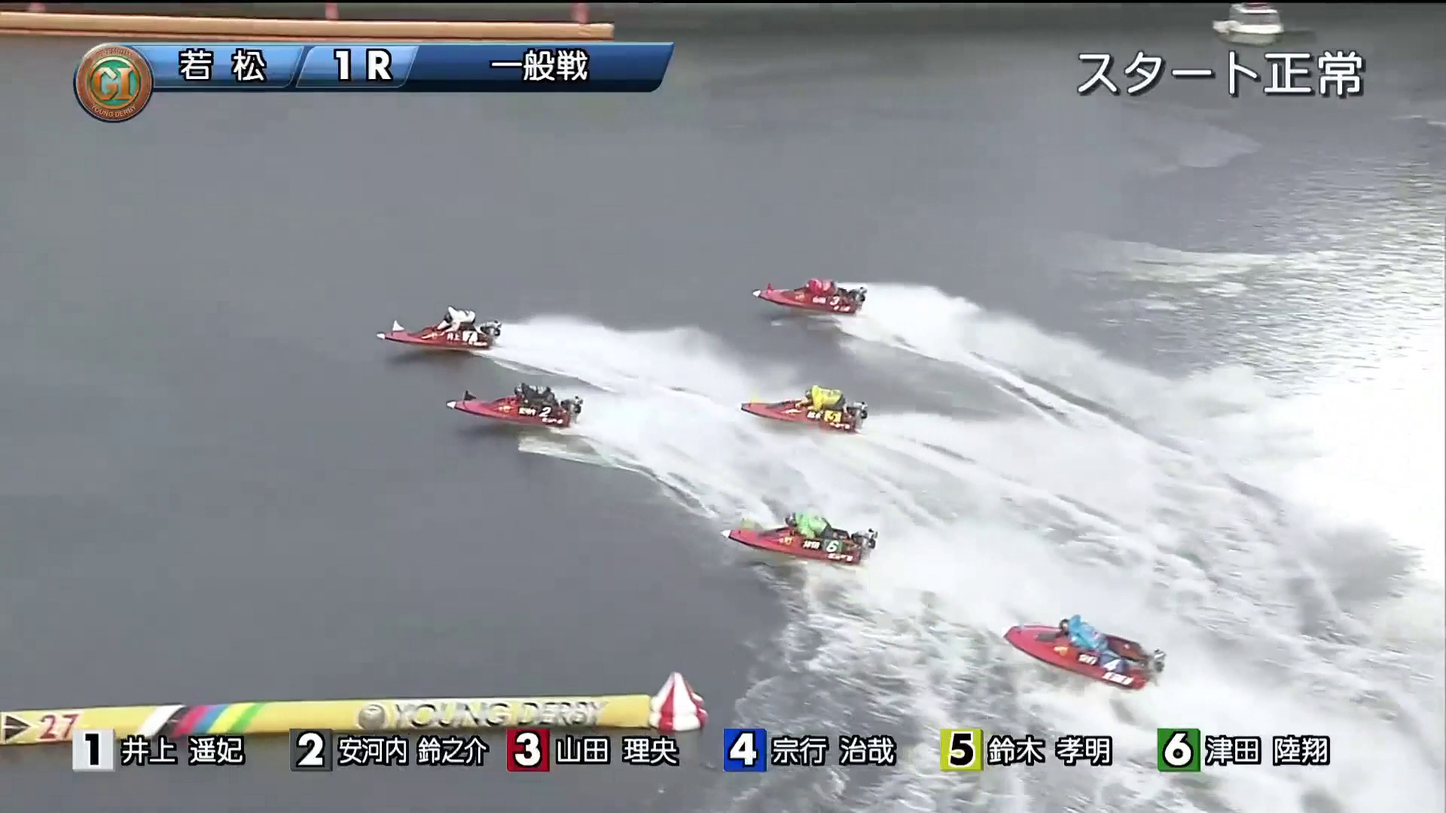１号艇: (384, 274, 455, 328)
２号艇: (425, 370, 554, 431)
３号艇: (770, 255, 868, 312)
４号艇: (742, 495, 876, 560)
５号艇: (1029, 623, 1153, 678)
６号艇: (741, 357, 841, 437)
